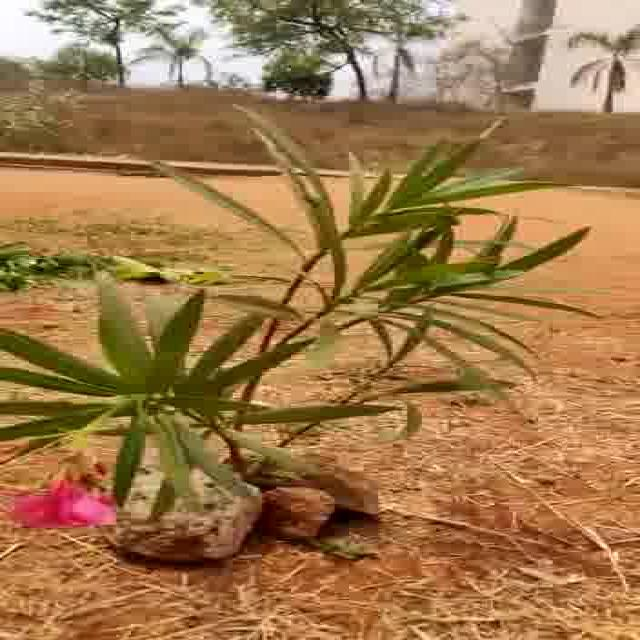Oleander: (12, 148, 596, 478)
